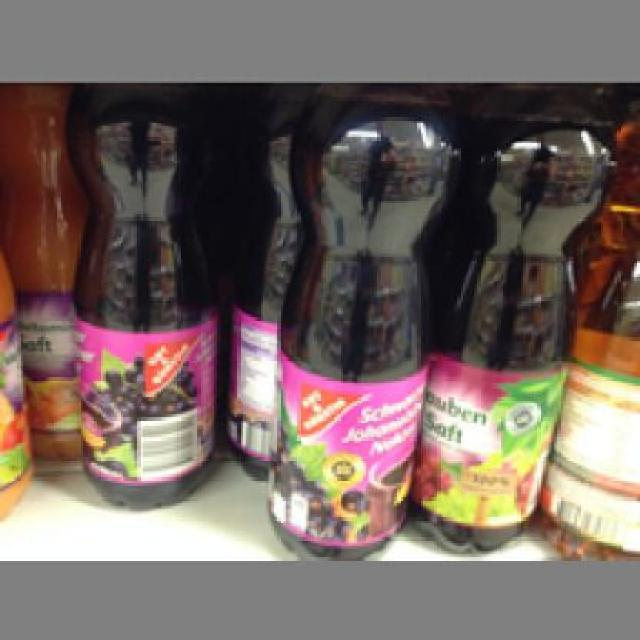Juice: (257, 82, 457, 555), (417, 82, 612, 548), (60, 82, 217, 508)
